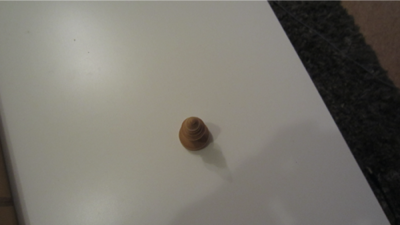white-bishop: (177, 116, 212, 152)
